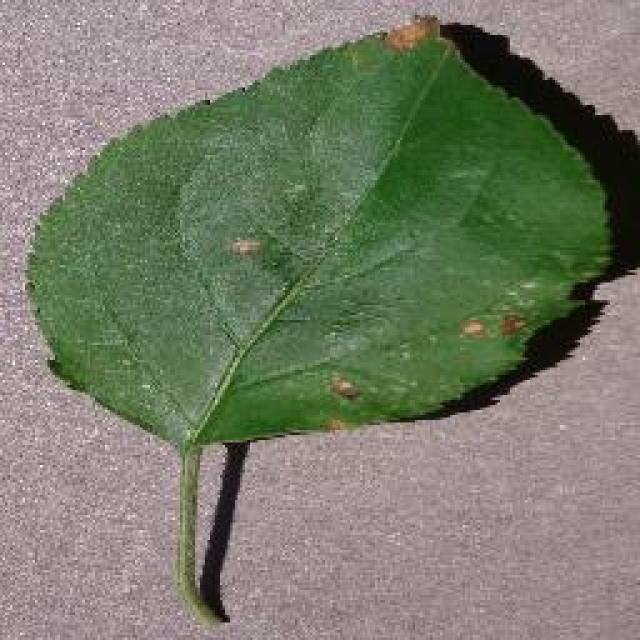apple healthy: (20, 13, 638, 625)
